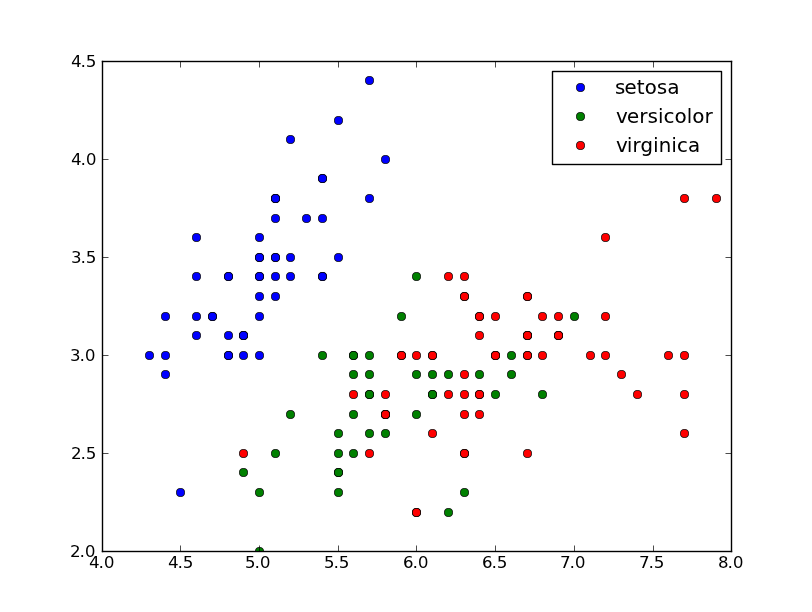canvas: (126, 72, 722, 531)
legend: (566, 75, 719, 157)
x-labels: (159, 553, 748, 573)
y-labels: (69, 46, 96, 519)
